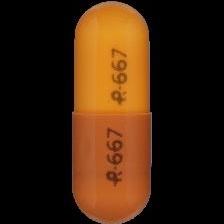67544-354: (0, 0, 224, 224)
